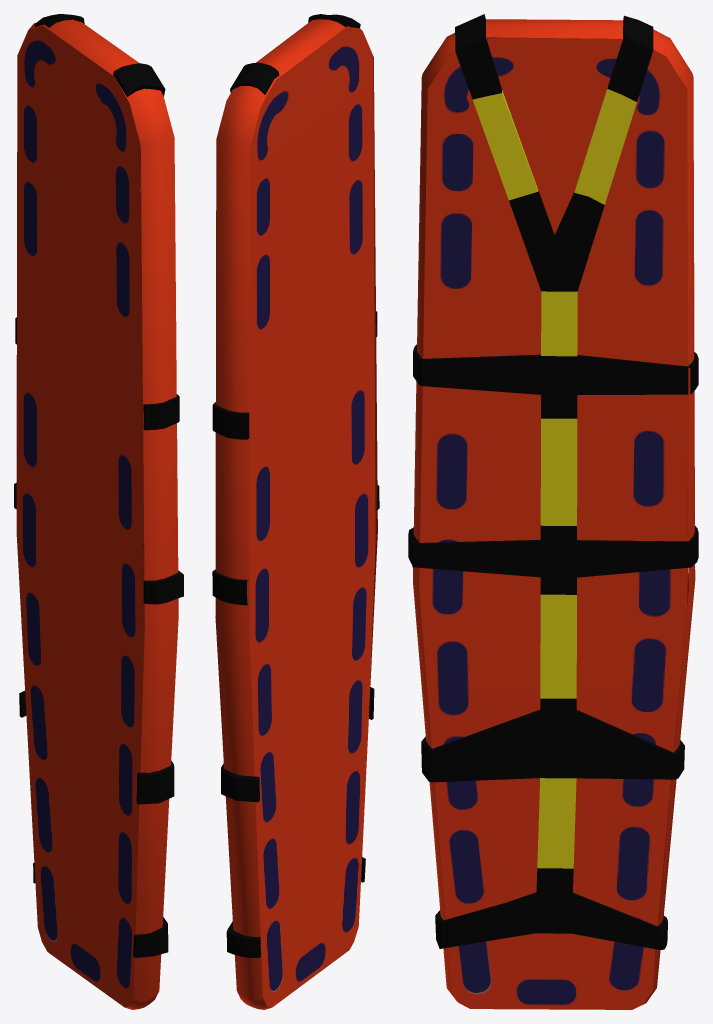
Rendered from camilla.fbx.
3 renders of one model, left to right at view 1: azimuth 30°, elevation 25°; view 2: azimuth 150°, elevation 25°; view 3: azimuth 270°, elevation 25°, orthographic. The views are drawn at different scales.
Visible parts, largest first — view 1: CAMILLA; view 2: CAMILLA; view 3: CAMILLA.
Part boxes in pixels (x1,y1,x2,y2): CAMILLA: (14,14,183,1009); CAMILLA: (212,14,379,1009); CAMILLA: (408,14,698,1009).
Size of the model in its own units: 18.6 by 413 by 110.
Materials: 3 (1 with a texture image).
